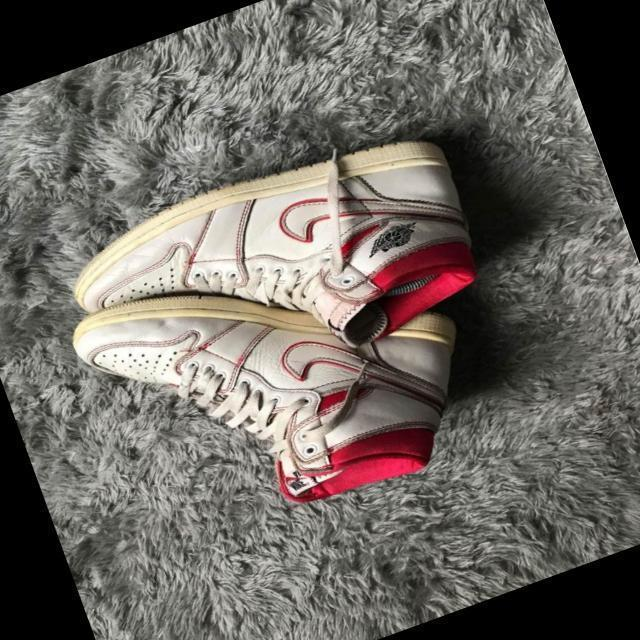nike original jordan 1: (62, 188, 513, 566), (51, 106, 501, 436)
